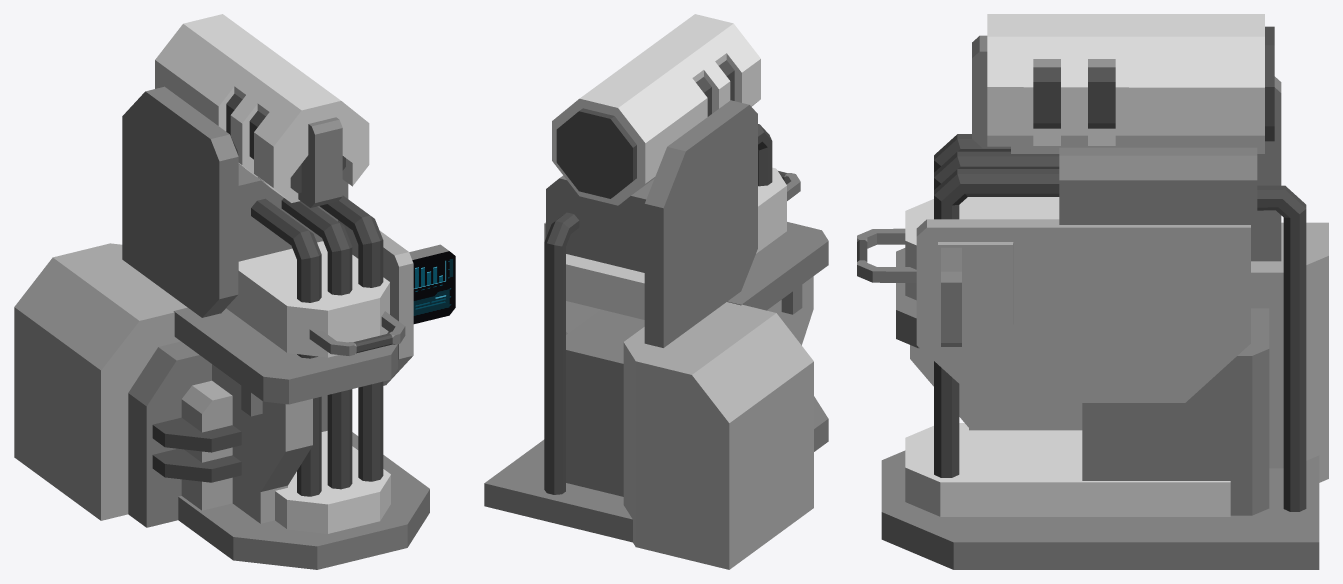
Rendered from SM_Machine_4.fbx.
3 renders of one model, left to right at view 1: azimuth 30°, elevation 25°; view 2: azimuth 150°, elevation 25°; view 3: azimuth 270°, elevation 25°, orthographic. The views are drawn at different scales.
Visible parts, largest first — view 1: SM_Machine_4, SM_Machine_4_Screen; view 2: SM_Machine_4; view 3: SM_Machine_4, SM_Machine_4_Screen.
Part boxes in pixels (box(x1,y1,x2,y2)): SM_Machine_4: box(14, 14, 429, 569); SM_Machine_4_Screen: box(409, 244, 455, 323); SM_Machine_4: box(484, 14, 828, 569); SM_Machine_4: box(857, 14, 1328, 569); SM_Machine_4_Screen: box(938, 242, 1013, 346).
Bounding box in the file's own units: 155 × 226 × 197.
